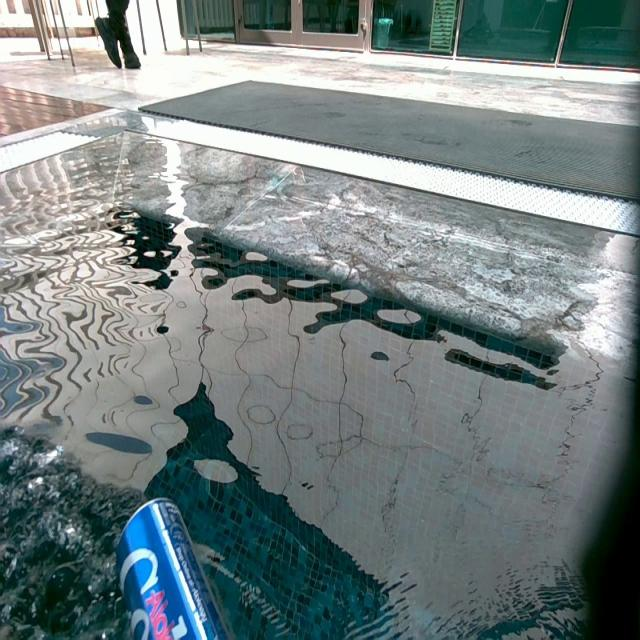Cans: (113, 495, 237, 640)
